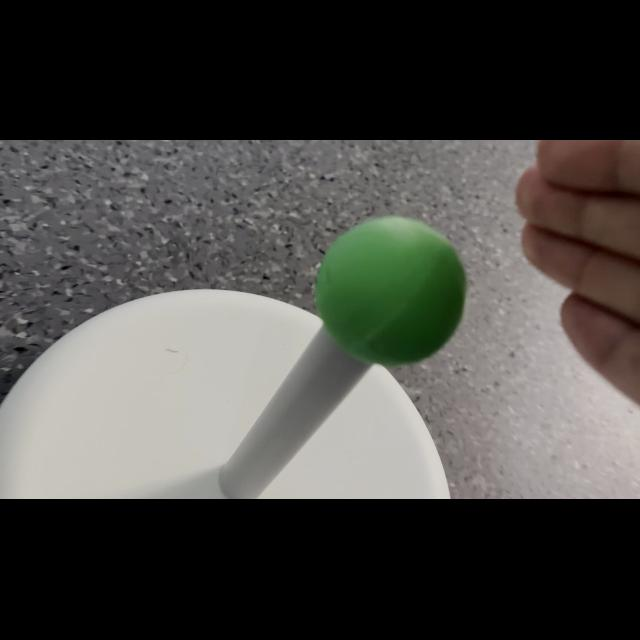objects: (303, 212, 479, 368)
